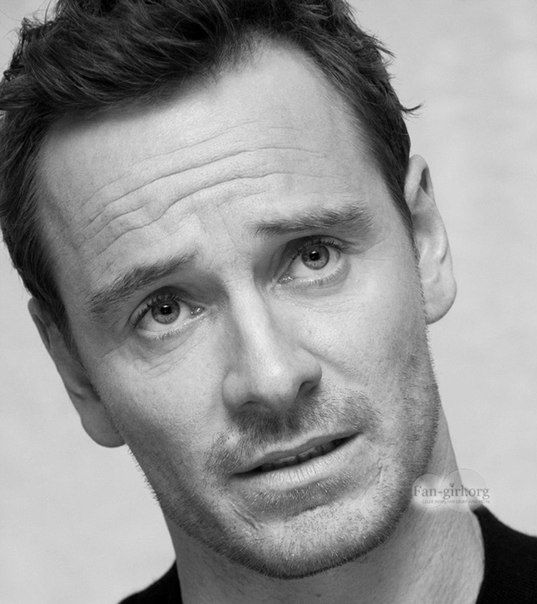confused: (32, 139, 441, 580)
